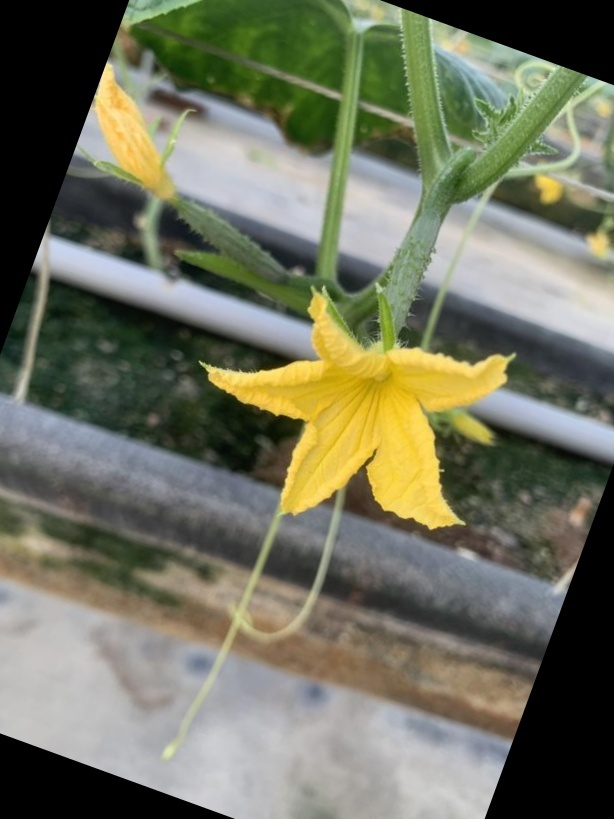bear: (85, 61, 304, 293)
flowering: (197, 282, 517, 533)
